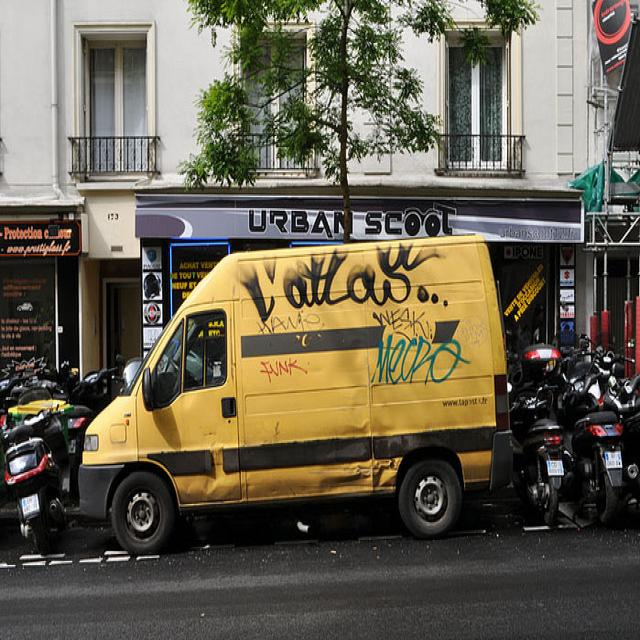motor: (549, 351, 640, 527), (0, 403, 75, 557), (506, 378, 565, 528), (603, 363, 640, 504)
